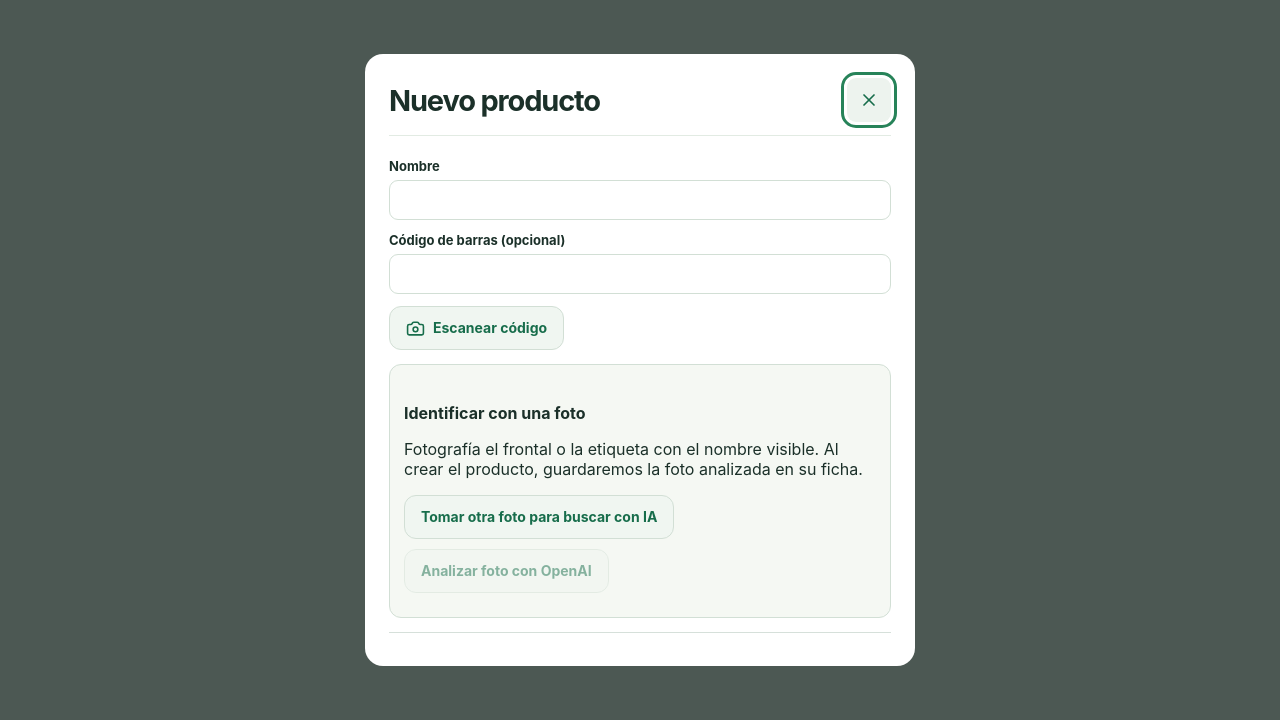
Test case: uses a verified catalog suggestion only on selection and saves its photo after creation
Type "Crema Example 100 ml" into the field labelled "Nombre".
click(640, 200); type("Crema Example 100 ml")  # box [389,180,891,220]
(page scrolled)
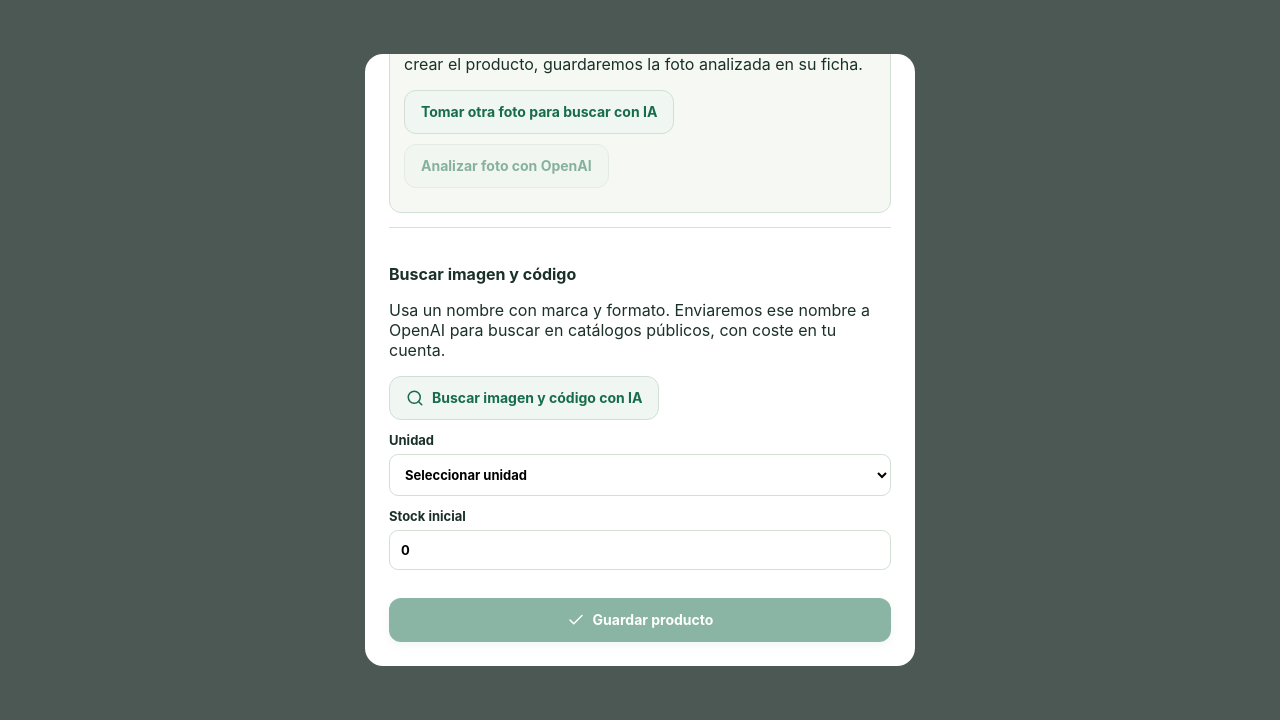
Click the button "Buscar imagen y código con IA".
click(524, 398)  # box [389,376,659,420]
(page scrolled)
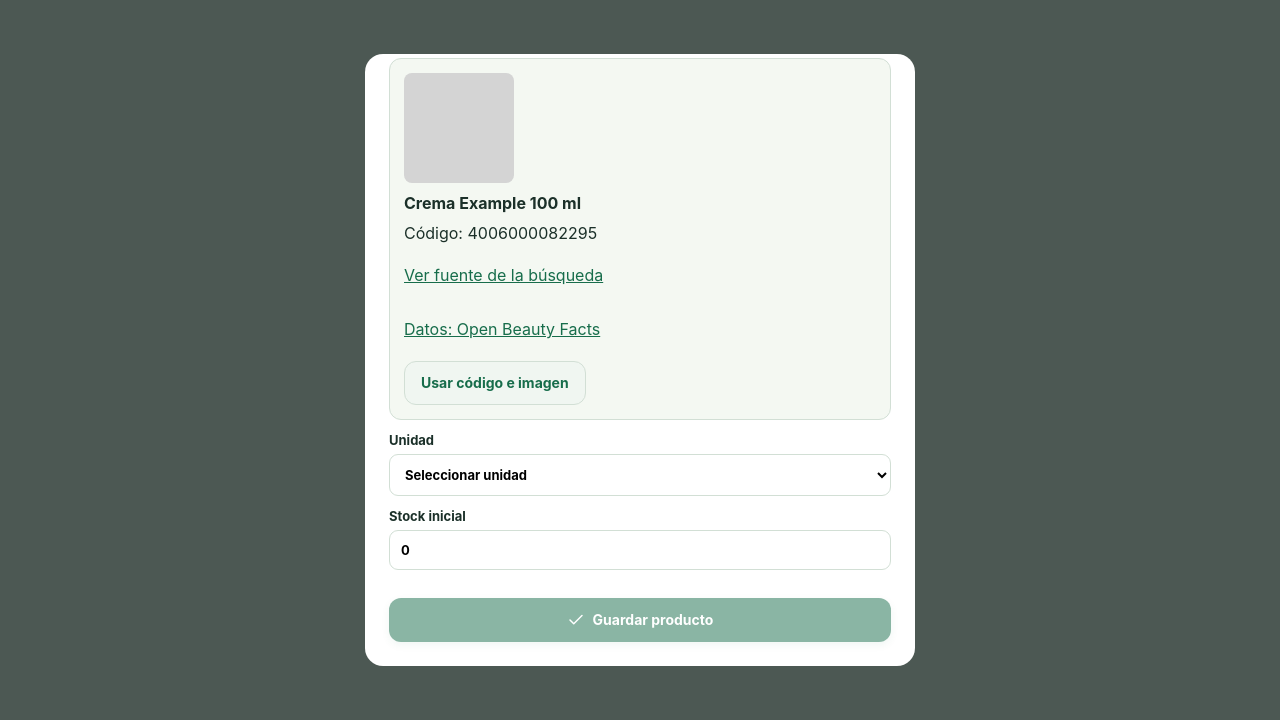
Now the button "Usar código e imagen" is shown
Click the button "Usar código e imagen".
click(495, 383)  # box [404,361,586,405]
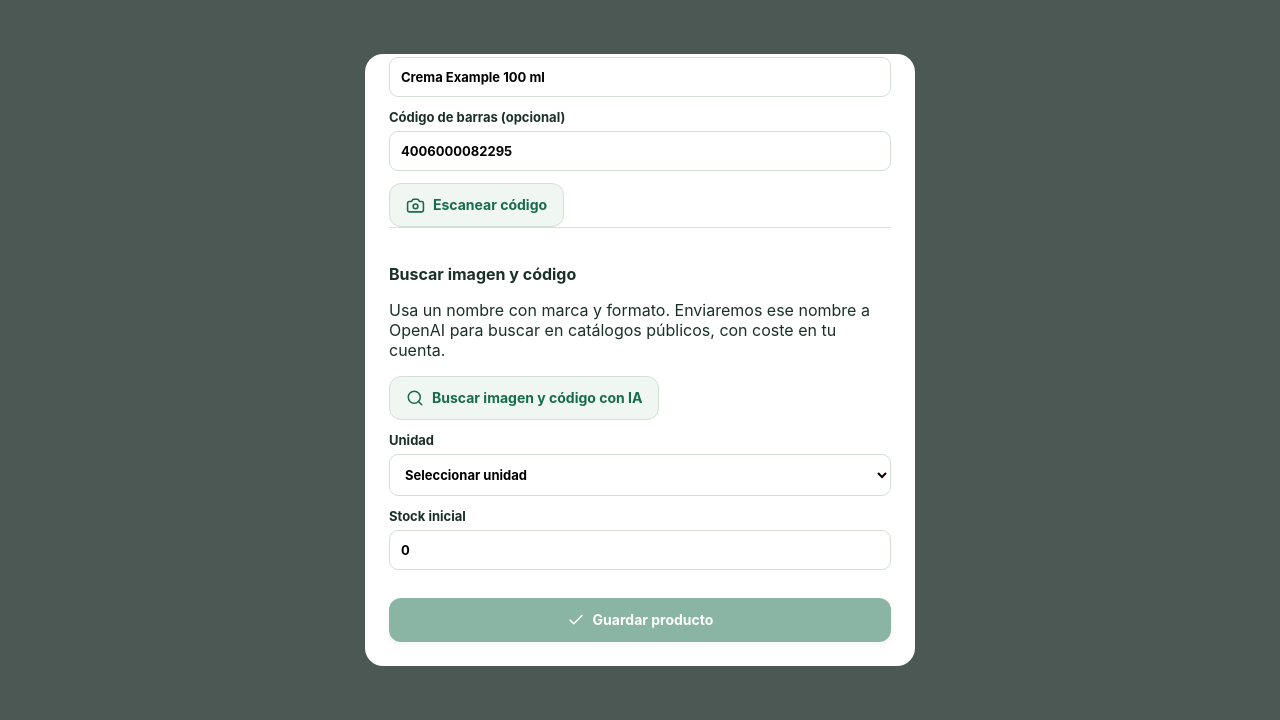
Now the field labelled "Código de barras (opcional)" holds "4006000082295", box [389,131,891,171]
Select "Piece" in the dropdown labelled "Unidad" at (640, 475), box [389,454,891,496]
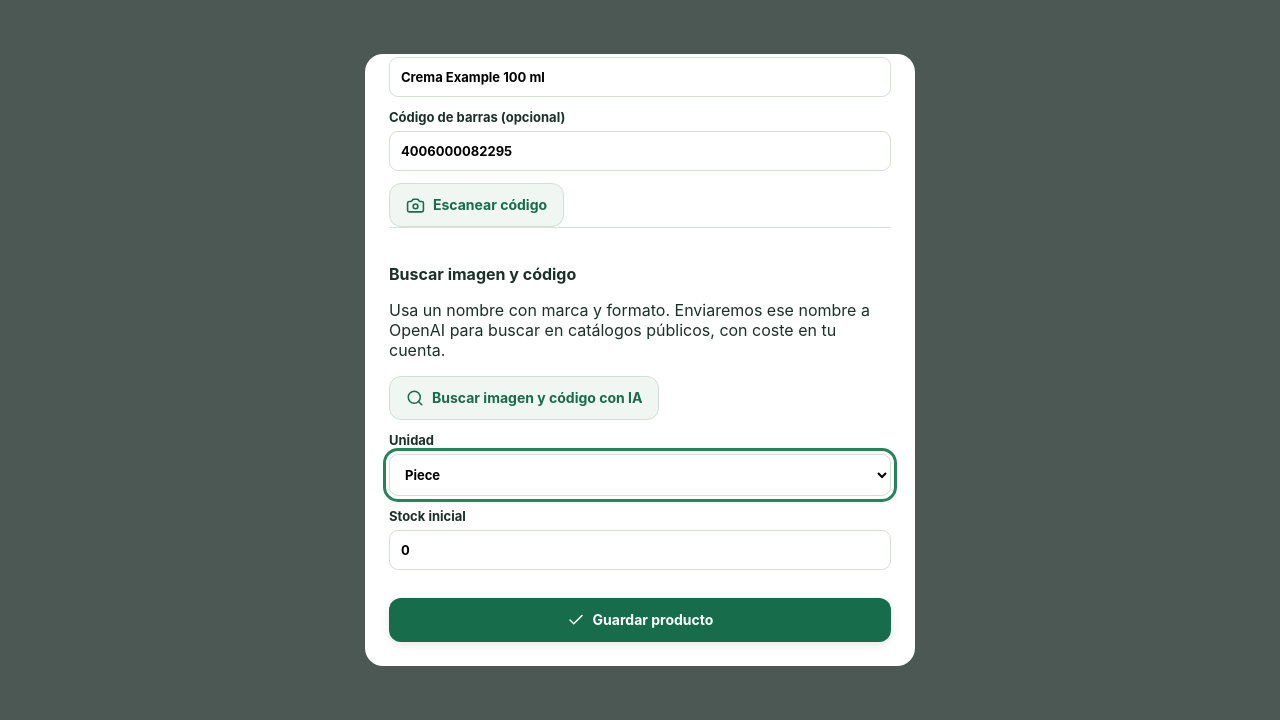
Click the button "Guardar producto".
click(640, 620)  # box [389,598,891,642]
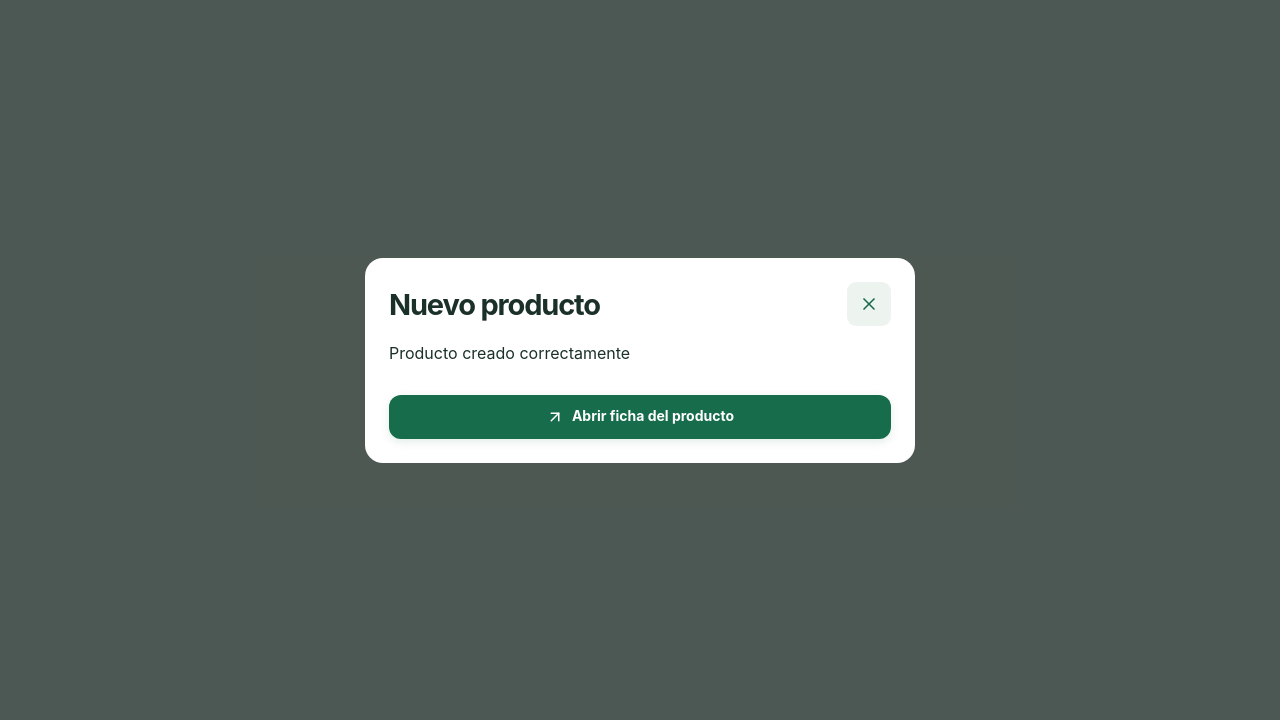
Now the text "Producto creado correctamente" is shown, box [389,342,630,362]
